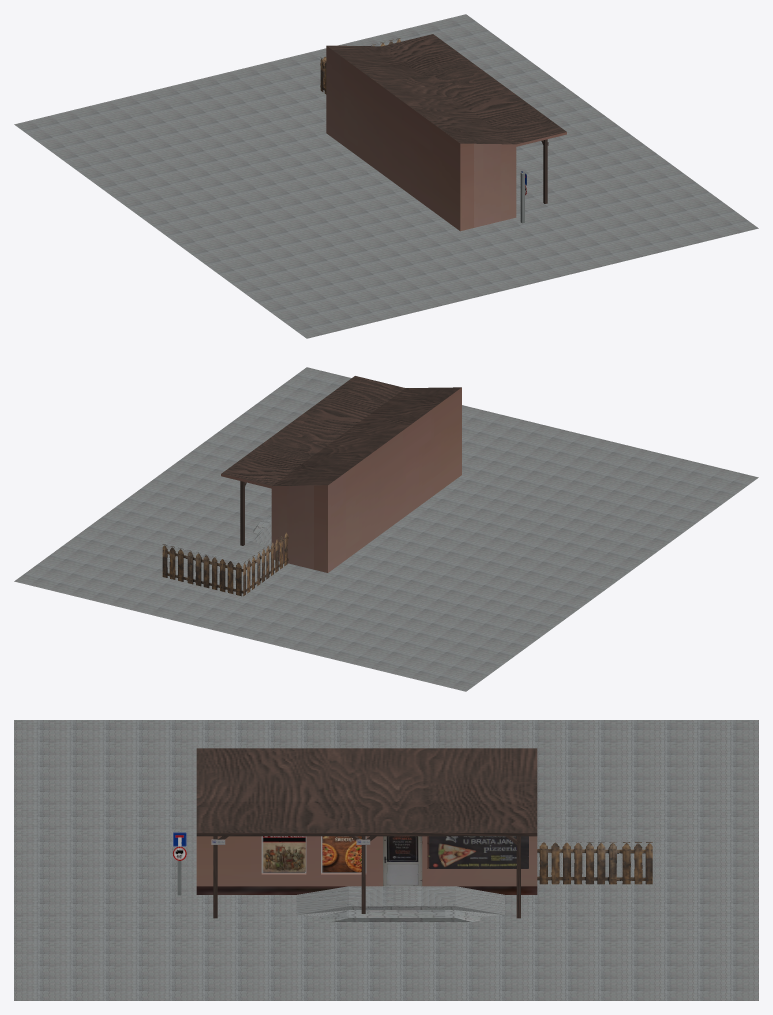
Rendered from building.obj.
The picture shows the model from 3 angles, top to bottom: view 1: azimuth 30°, elevation 25°; view 2: azimuth 150°, elevation 25°; view 3: azimuth 270°, elevation 25°; orthographic projection. The views are drawn at different scales.
Parts seen in each view (by area): view 1: Plane, Cube; view 2: Plane, Cube, Plane.002, Plane.001; view 3: Plane, Cube, Plane.001, Cube.004.
Part boxes in pixels (x1=…): Plane: x1=14, y1=14, x2=758, y2=338; Cube: x1=326, y1=34, x2=566, y2=231; Plane: x1=14, y1=367, x2=758, y2=691; Cube: x1=221, y1=376, x2=461, y2=572; Plane.002: x1=162, y1=544, x2=243, y2=596; Plane.001: x1=243, y1=532, x2=288, y2=596; Plane: x1=14, y1=720, x2=758, y2=1000; Cube: x1=196, y1=748, x2=537, y2=921; Plane.001: x1=537, y1=842, x2=652, y2=884; Cube.004: x1=427, y1=836, x2=528, y2=868.
Bounding box in the file's own units: 16.09 × 3.31 × 18.05.
12 materials, 12 textured.
